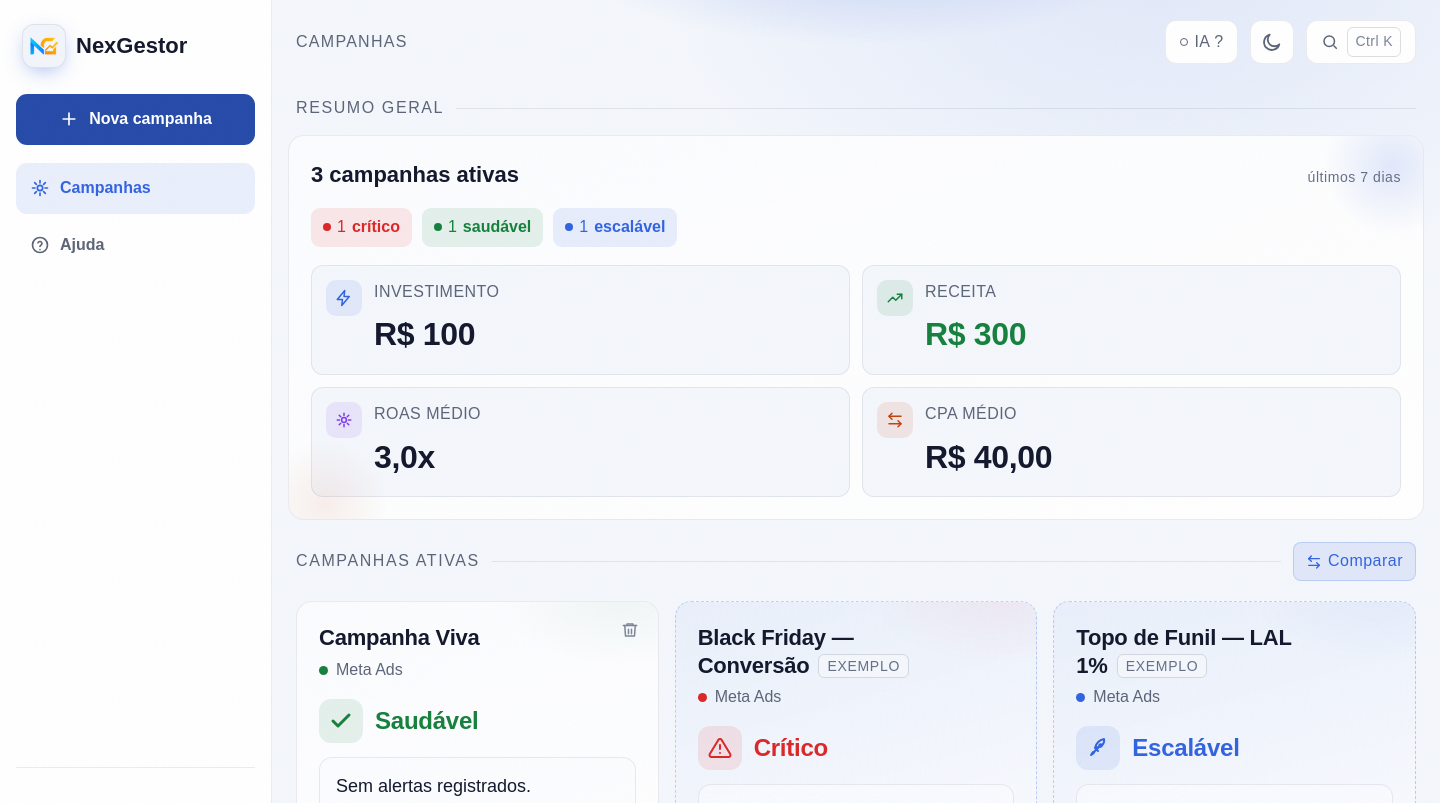
Scenario: apagar pela Home › servidor fora do ar: a campanha CONTINUA na tela e no armazenamento
The width and height of the screenshot is (1440, 803).
Click the button named "Apagar campanha Campanha Viva" at point(630, 630), box [610,610,650,650]
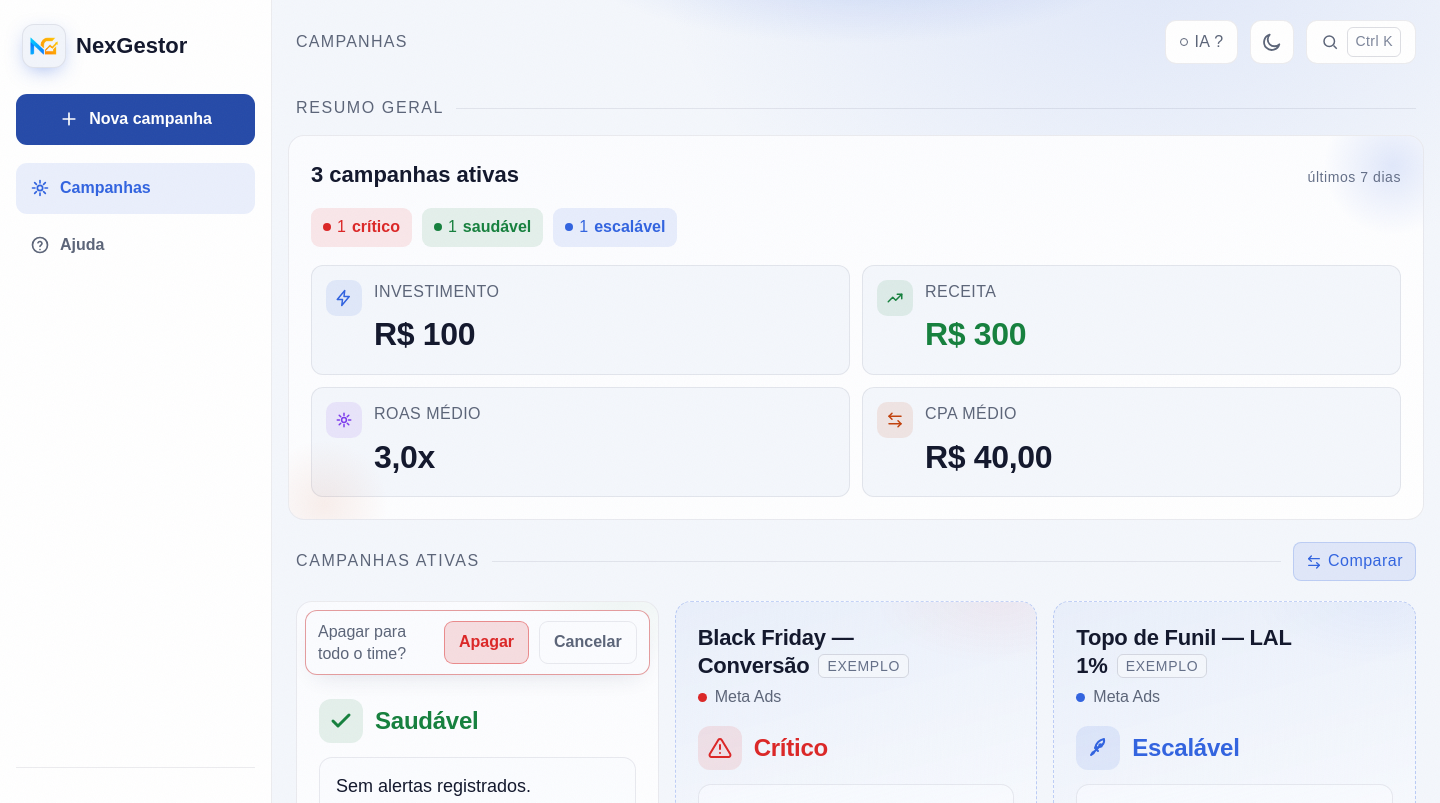
Click the button "Apagar" at point(486, 643), box [444,622,529,664]
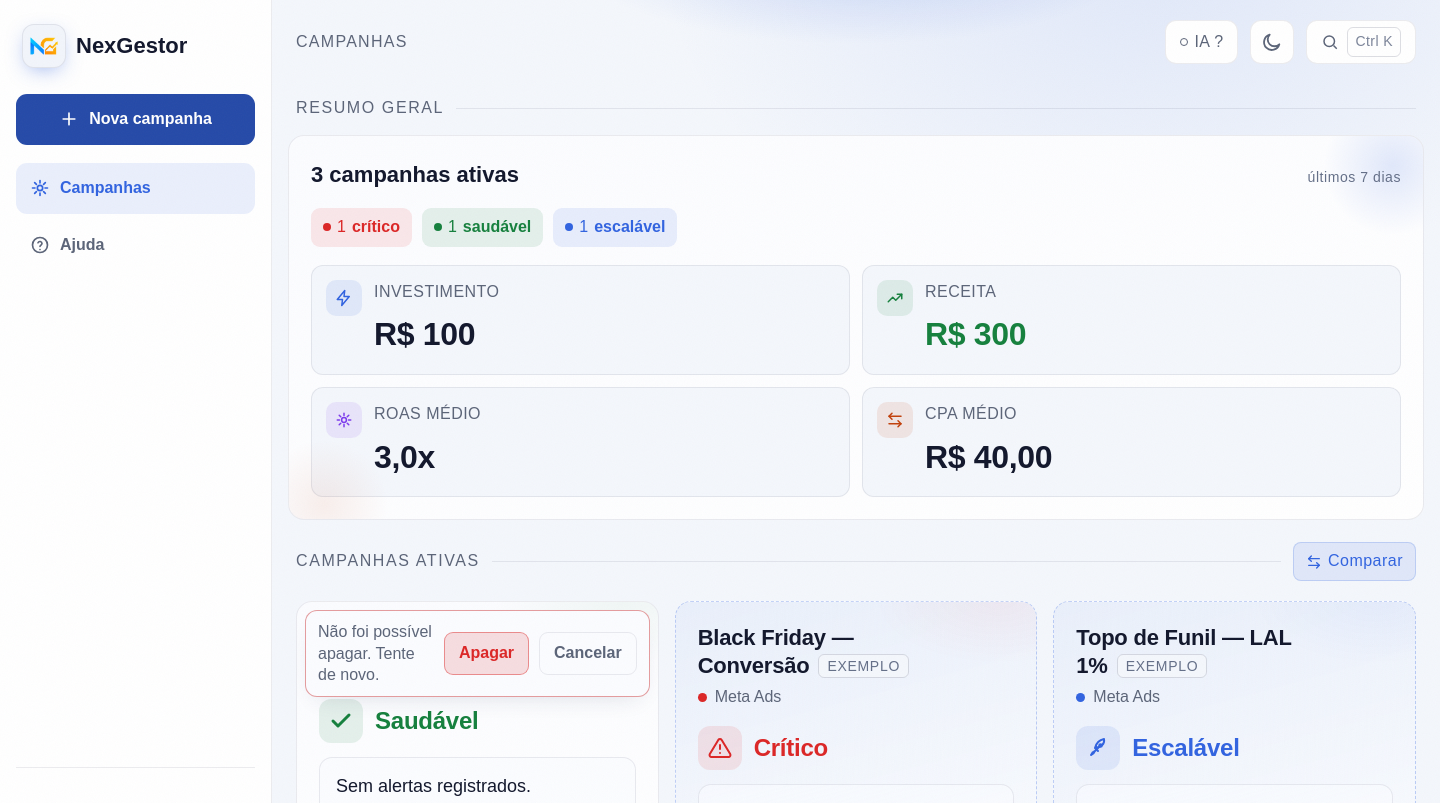
Expected: the text "Campanha Viva" is shown, [319,625,480,650]
Expected: the text "Não foi possível apagar. Tente de novo." is shown, [318,621,434,686]
